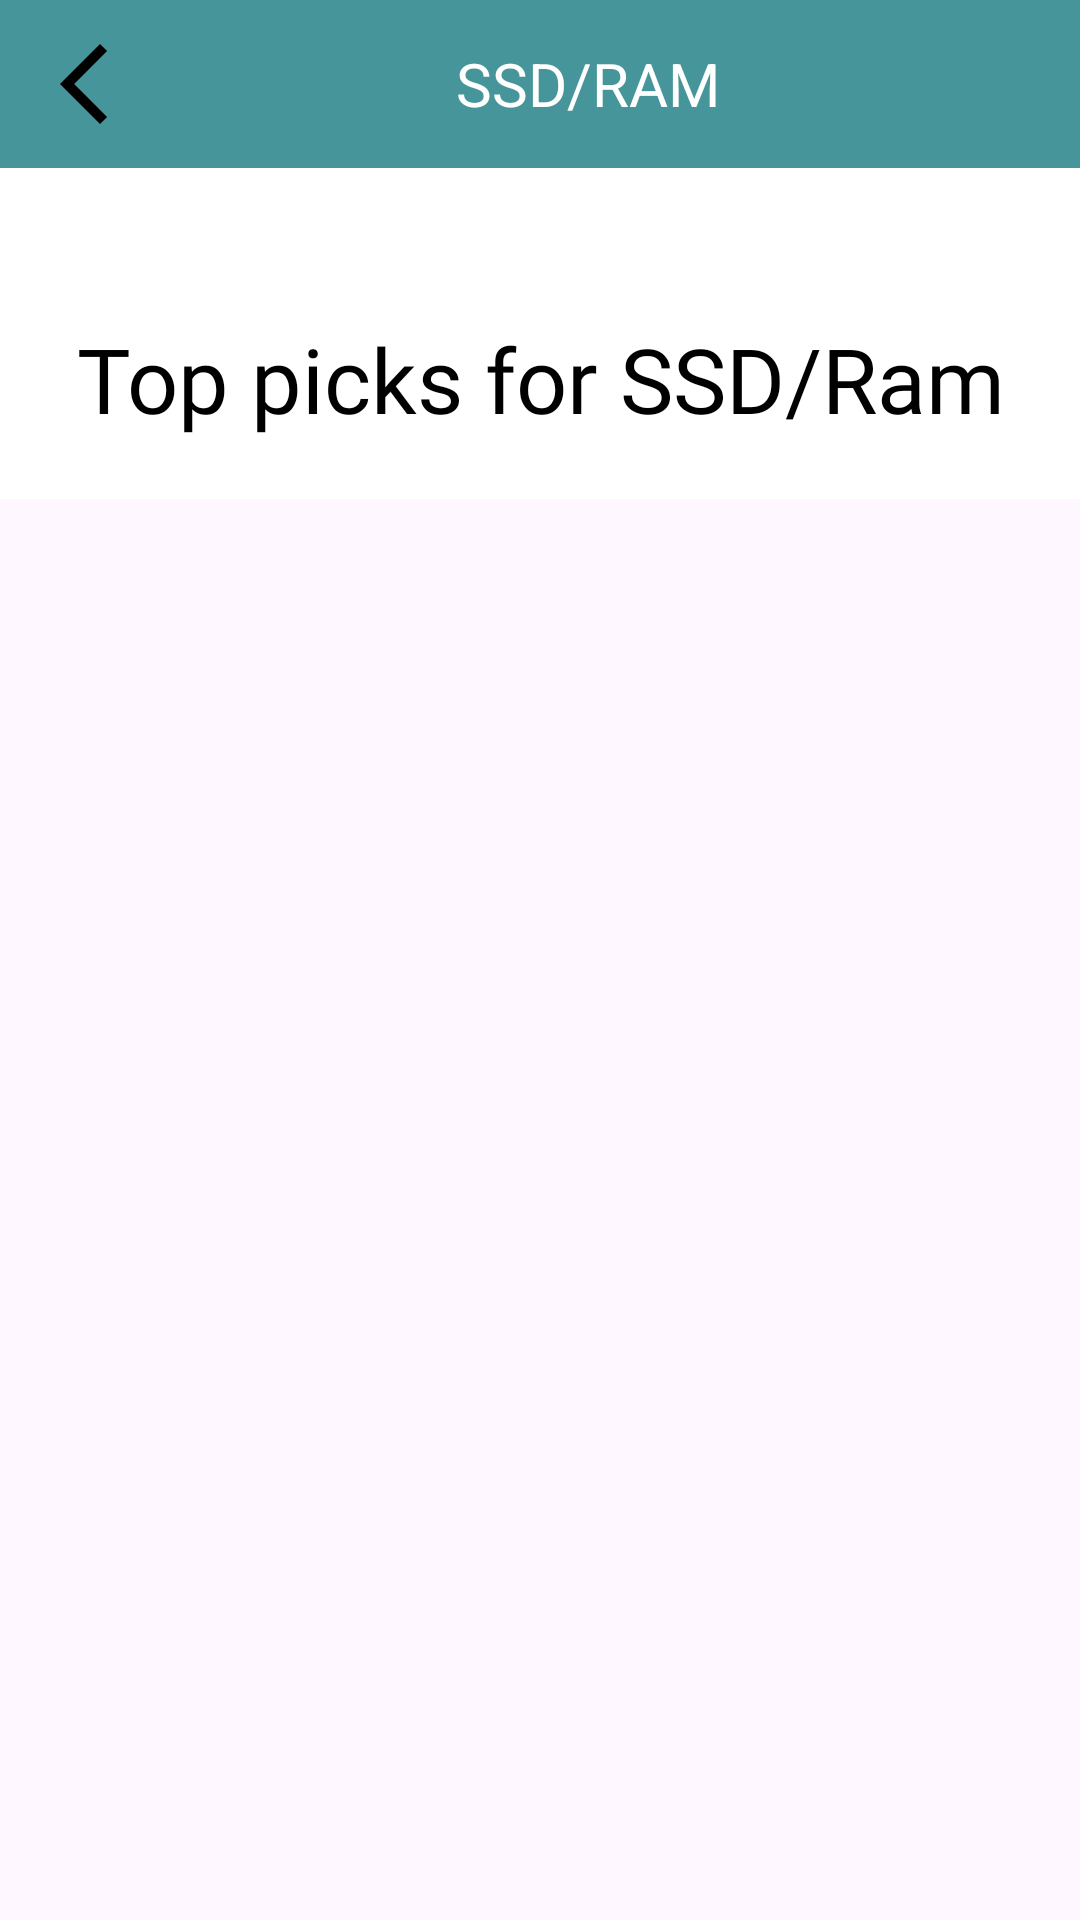

Screen size 1080w x 1920h. Icon name, then its box in pixels as (x1, y1, x2, y2):
Back: (60, 44, 107, 124)
